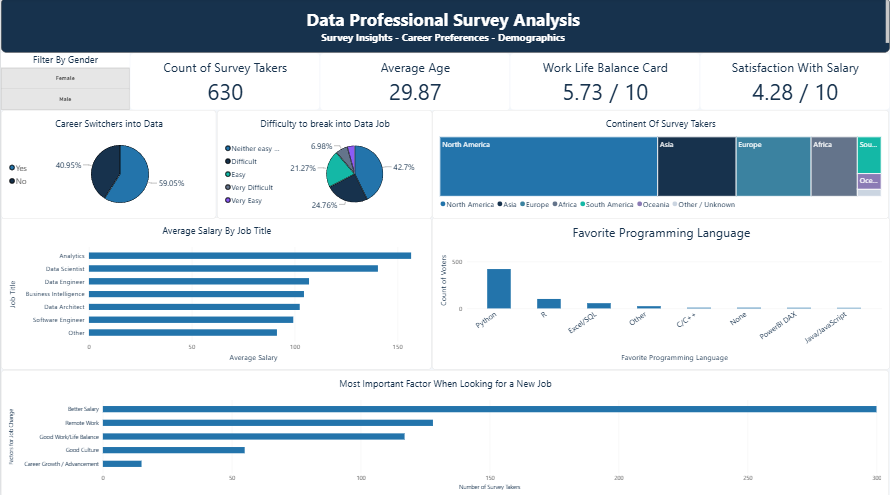

What the dashboard file says about the page in this screenshot:
{"tool":"powerbi","page":{"name":"Page 1","canvas":[1920,1080],"ordinal":0},"visuals":[{"type":"cardVisual","fields":{"Data":["Avg(Survey.Q10 - Current Age)"]},"box":[689,118.8,410,124],"z":0},{"type":"cardVisual","fields":{"Data":["CountNonNull(Survey.Unique ID)"]},"box":[278.6,118.8,410.4,123.1],"z":1000},{"type":"barChart","title":"Average Salary By Job Title","fields":{"Category":["Survey.Q1 - Which Title Best Fits your Current Role?"],"Y":["Avg(Survey.Q3 - Avg  Current Yearly Salary (in USD) )"]},"box":[0,474,930,330],"z":2000},{"type":"columnChart","title":"Favorite Programming Language","fields":{"Category":["Survey.Q5 - Favorite Programming Language"],"Y":["CountNonNull(Survey.Unique ID)"]},"box":[931,473,989.3,330.5],"z":3000},{"type":"treemap","title":"Continent Of Survey Takers","fields":{"Group":["Survey.Q11 - Which Continent do you live in?"],"Values":["CountNonNull(Survey.Q11 - Which Continent do you live in?)"]},"box":[931,241.9,987.1,235.4],"z":4000},{"type":"pieChart","title":"Difficulty to break into Data Job","fields":{"Category":["Survey.Q7 - How difficult was it for you to break into Data?"],"Y":["CountNonNull(Survey.Q7 - How difficult was it for you to break into Data?)"]},"box":[466.6,241.9,465,235.4],"z":7000},{"type":"advancedSlicerVisual","title":"Filter By Gender","fields":{"Values":["Survey.Q9 - Male/Female?"]},"box":[0,118.3,278.3,123.3],"z":8000},{"type":"pieChart","title":"Career Switchers into Data","fields":{"Category":["Survey.Q2 - Did you switch careers into Data?"],"Y":["CountNonNull(Survey.Q2 - Did you switch careers into Data?)"]},"box":[0,241.9,465,235.4],"z":9000},{"type":"clusteredBarChart","title":"Most Important Factor When Looking for a New Job","fields":{"Category":["Survey.Q8 - If you were to look for a new job today, what would be the most important thing to you?"],"Y":["CountNonNull(Survey.Q8 - If you were to look for a new job today, what would be the most important thing to you?)"]},"box":[0,803.5,1918.1,276.5],"z":10000},{"type":"textbox","box":[0,0,1920,118],"z":11500},{"type":"cardVisual","fields":{"Data":["Survey.Work Life Balance Card"]},"box":[1099.4,118.8,410,123.1],"z":11501},{"type":"cardVisual","fields":{"Data":["Survey.Satisfaction With Salary"]},"box":[1509.8,118.8,410,123.1],"z":11502}]}

Visuals, with their boxes in screenshot pixels (x1, y1, x2, y2), scaled from the page's 1920x1080 canvas onto the 890x495 screenshot:
cardVisual - Avg(Survey.Q10 - Current Age): 319:54:509:111
cardVisual - CountNonNull(Survey.Unique ID): 129:54:319:111
"Average Salary By Job Title" barChart: 0:217:431:368
"Favorite Programming Language" columnChart: 432:217:889:368
"Continent Of Survey Takers" treemap: 432:111:889:219
"Difficulty to break into Data Job" pieChart: 216:111:432:219
"Filter By Gender" advancedSlicerVisual: 0:54:129:111
"Career Switchers into Data" pieChart: 0:111:216:219
"Most Important Factor When Looking for a New Job" clusteredBarChart: 0:368:889:494
textbox: 0:0:889:54
cardVisual - Survey.Work Life Balance Card: 510:54:700:111
cardVisual - Survey.Satisfaction With Salary: 700:54:889:111
